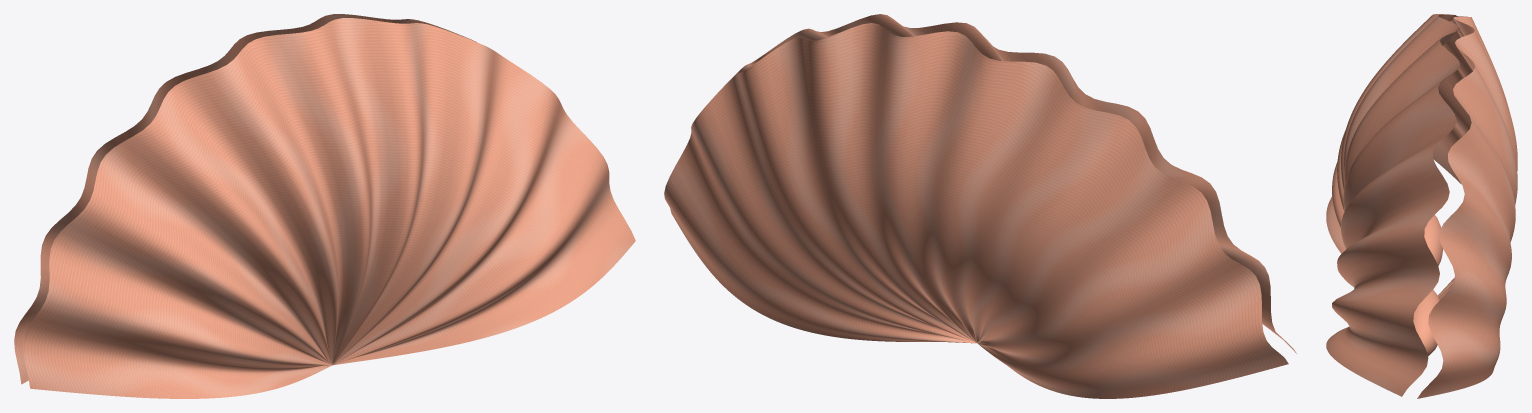
The model's file is scallop.glb.
3 views of the same model, side by side, from view 1: azimuth 30°, elevation 25°; view 2: azimuth 150°, elevation 25°; view 3: azimuth 270°, elevation 25° (orthographic). The views are drawn at different scales.
Parts seen in each view (by area): view 1: scallop.001; view 2: scallop.001; view 3: scallop.001.
Part boxes in pixels (x1,y1,x2,y2): scallop.001: (14, 14, 635, 398); scallop.001: (664, 14, 1296, 398); scallop.001: (1326, 14, 1517, 398).
Bounding box in the file's own units: 2.5 × 1.27 × 0.7996.
4 materials, 2 textured.
